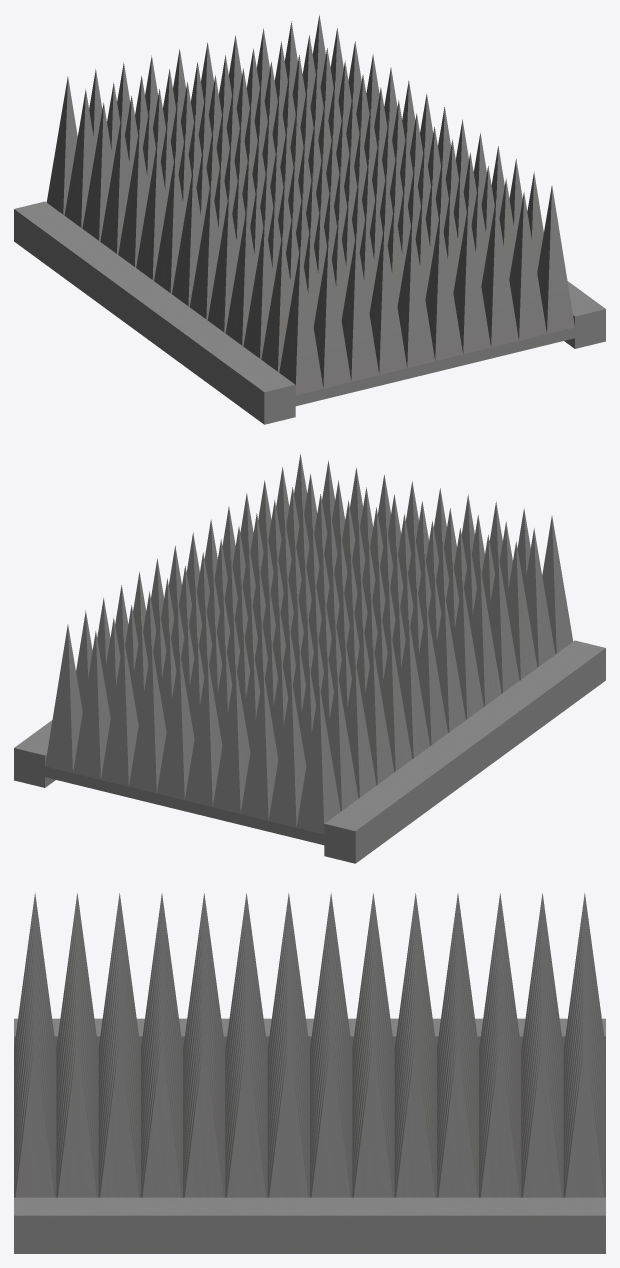
The model's file is Spike.fbx.
3 renders of one model, top to bottom at view 1: azimuth 30°, elevation 25°; view 2: azimuth 150°, elevation 25°; view 3: azimuth 270°, elevation 25°, orthographic. The views are drawn at different scales.
Visible parts, largest first — view 1: Cube; view 2: Cube; view 3: Cube.
Part boxes in pixels (bbox=[...]): Cube: bbox=[14, 14, 605, 424]; Cube: bbox=[14, 453, 605, 863]; Cube: bbox=[14, 892, 605, 1253].
Size of the model in its own units: 22 by 9.94 by 27.95.
Materials: 1 (1 with a texture image).
